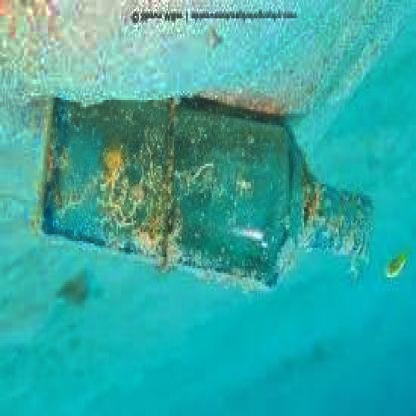gbottle: (32, 77, 380, 300)
